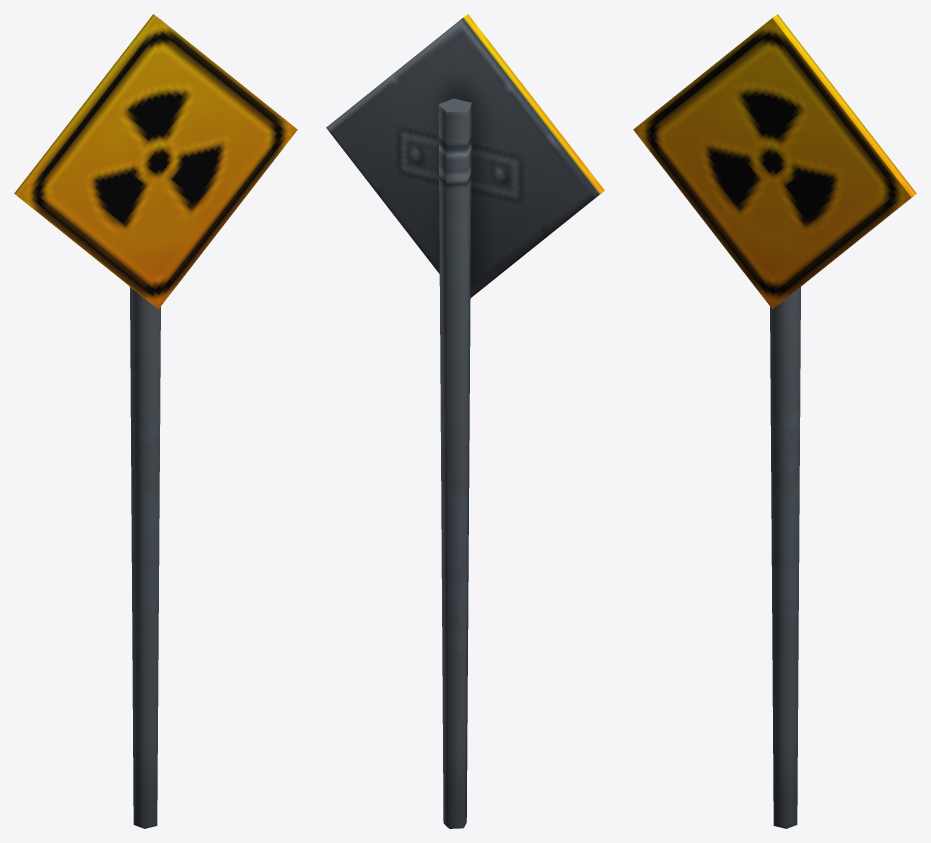
File: Signboard1.fbx
3 renders of one model, left to right at view 1: azimuth 30°, elevation 25°; view 2: azimuth 150°, elevation 25°; view 3: azimuth 330°, elevation 25°, orthographic.
Visible parts, largest first — view 1: polySurface136; view 2: polySurface136; view 3: polySurface136.
Boxes of the visible parts, x1,y1,x2,y2 form: polySurface136: (14, 14, 297, 828); polySurface136: (326, 14, 604, 828); polySurface136: (633, 14, 916, 828).
Size of the model in its own units: 1.35 by 3.78 by 0.1806.
